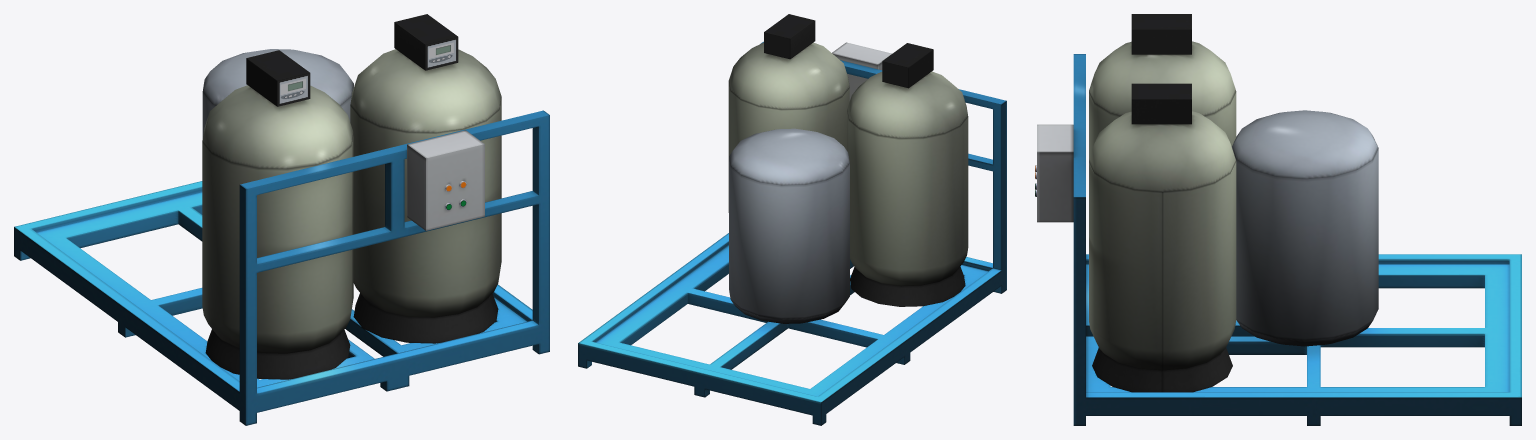
Rendered from qiping002.FBX.
The picture shows the model from 3 angles, left to right: view 1: azimuth 30°, elevation 25°; view 2: azimuth 150°, elevation 25°; view 3: azimuth 270°, elevation 25°; orthographic projection. The views are drawn at different scales.
Visible parts, largest first — view 1: qiping002; view 2: qiping002; view 3: qiping002.
Part boxes in pixels (x1=…): qiping002: x1=14, y1=14, x2=549, y2=425; qiping002: x1=578, y1=14, x2=1006, y2=425; qiping002: x1=1035, y1=14, x2=1521, y2=425.
Bounding box in the file's own units: 1842 × 1783 × 2643.
